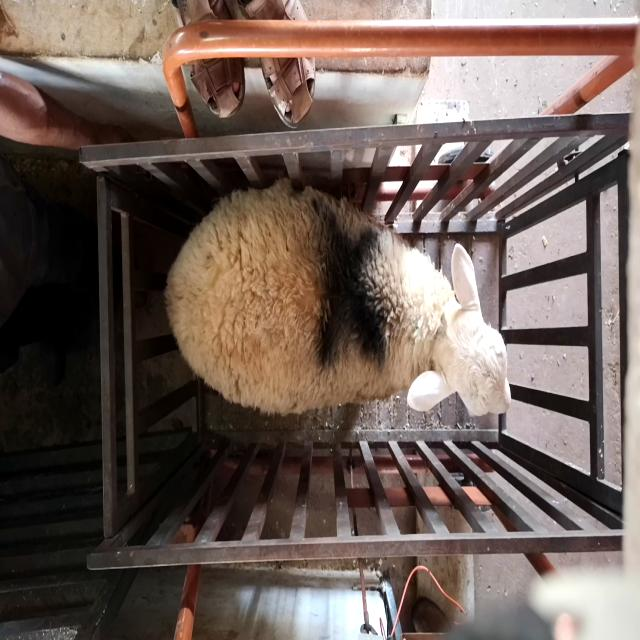sheep: (165, 176, 511, 416)
